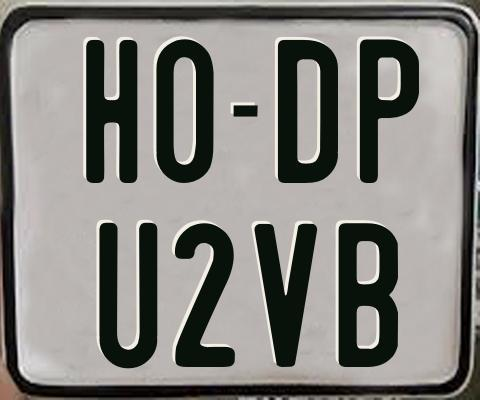0: (153, 36, 213, 182)
2: (173, 223, 239, 368)
B: (338, 222, 399, 368)
D: (278, 38, 341, 183)
H: (86, 40, 139, 185)
P: (360, 36, 422, 184)
U: (99, 221, 162, 370)
V: (254, 224, 319, 371)
